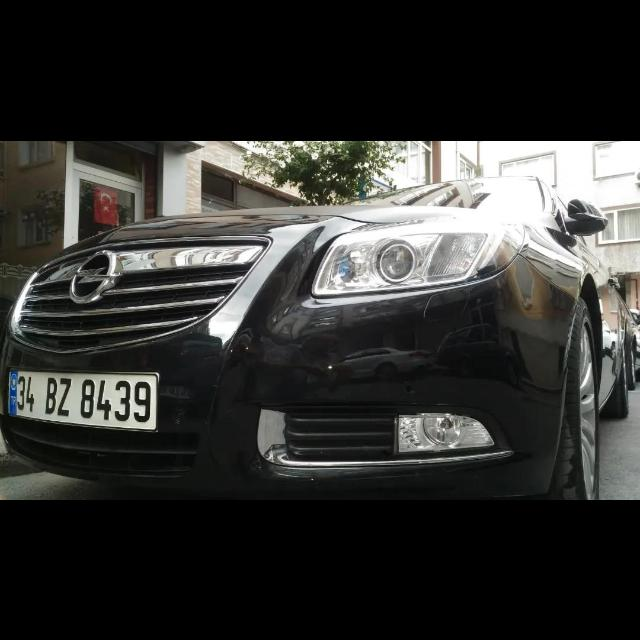Plaka: (9, 368, 155, 430)
